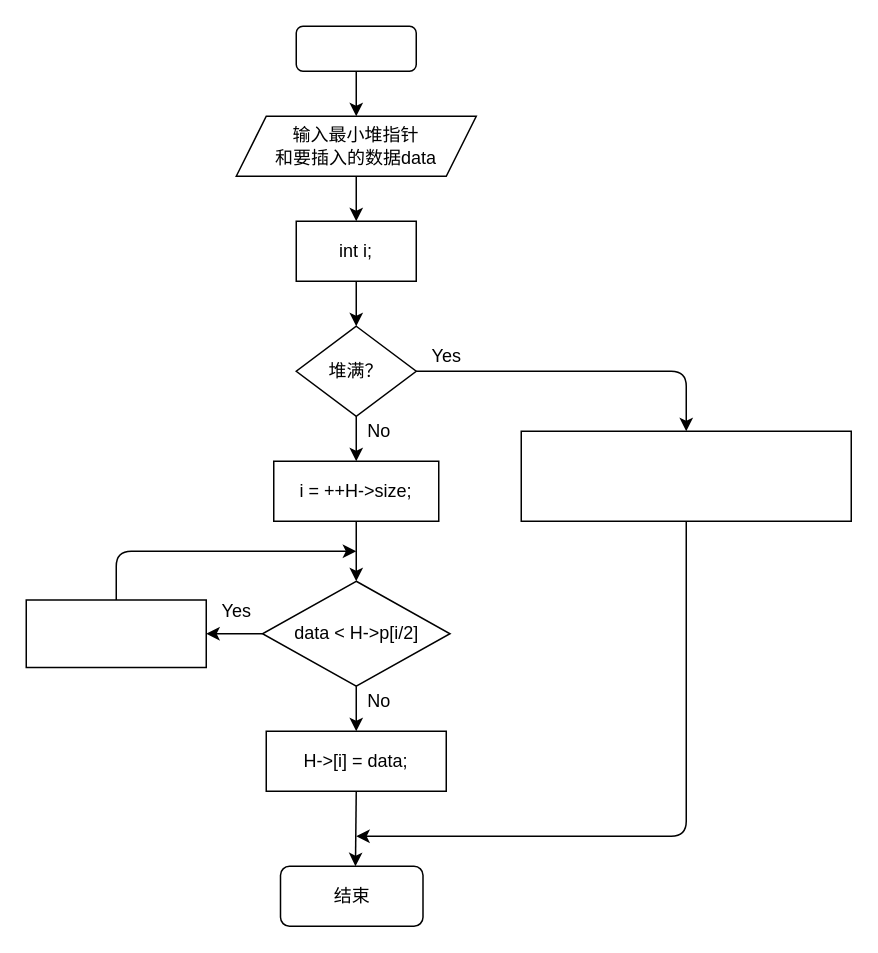
Image size: 878x953. Some labels were removed from this diagram. Here are the shapes that lost their labels. From the top down, the box of each, then its label:
(295, 25, 416, 71): 开始
(520, 430, 851, 521): printf("最小堆已满，无法插入元素")； return ；
(25, 598, 206, 668): H->p[i] = H->p[i/2]; i /= 2;
